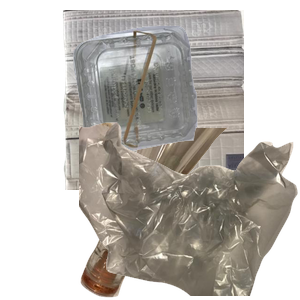glass: (78, 128, 298, 300)
paper: (60, 10, 300, 190)
plastic: (71, 23, 300, 169)
trash: (79, 120, 300, 300)
